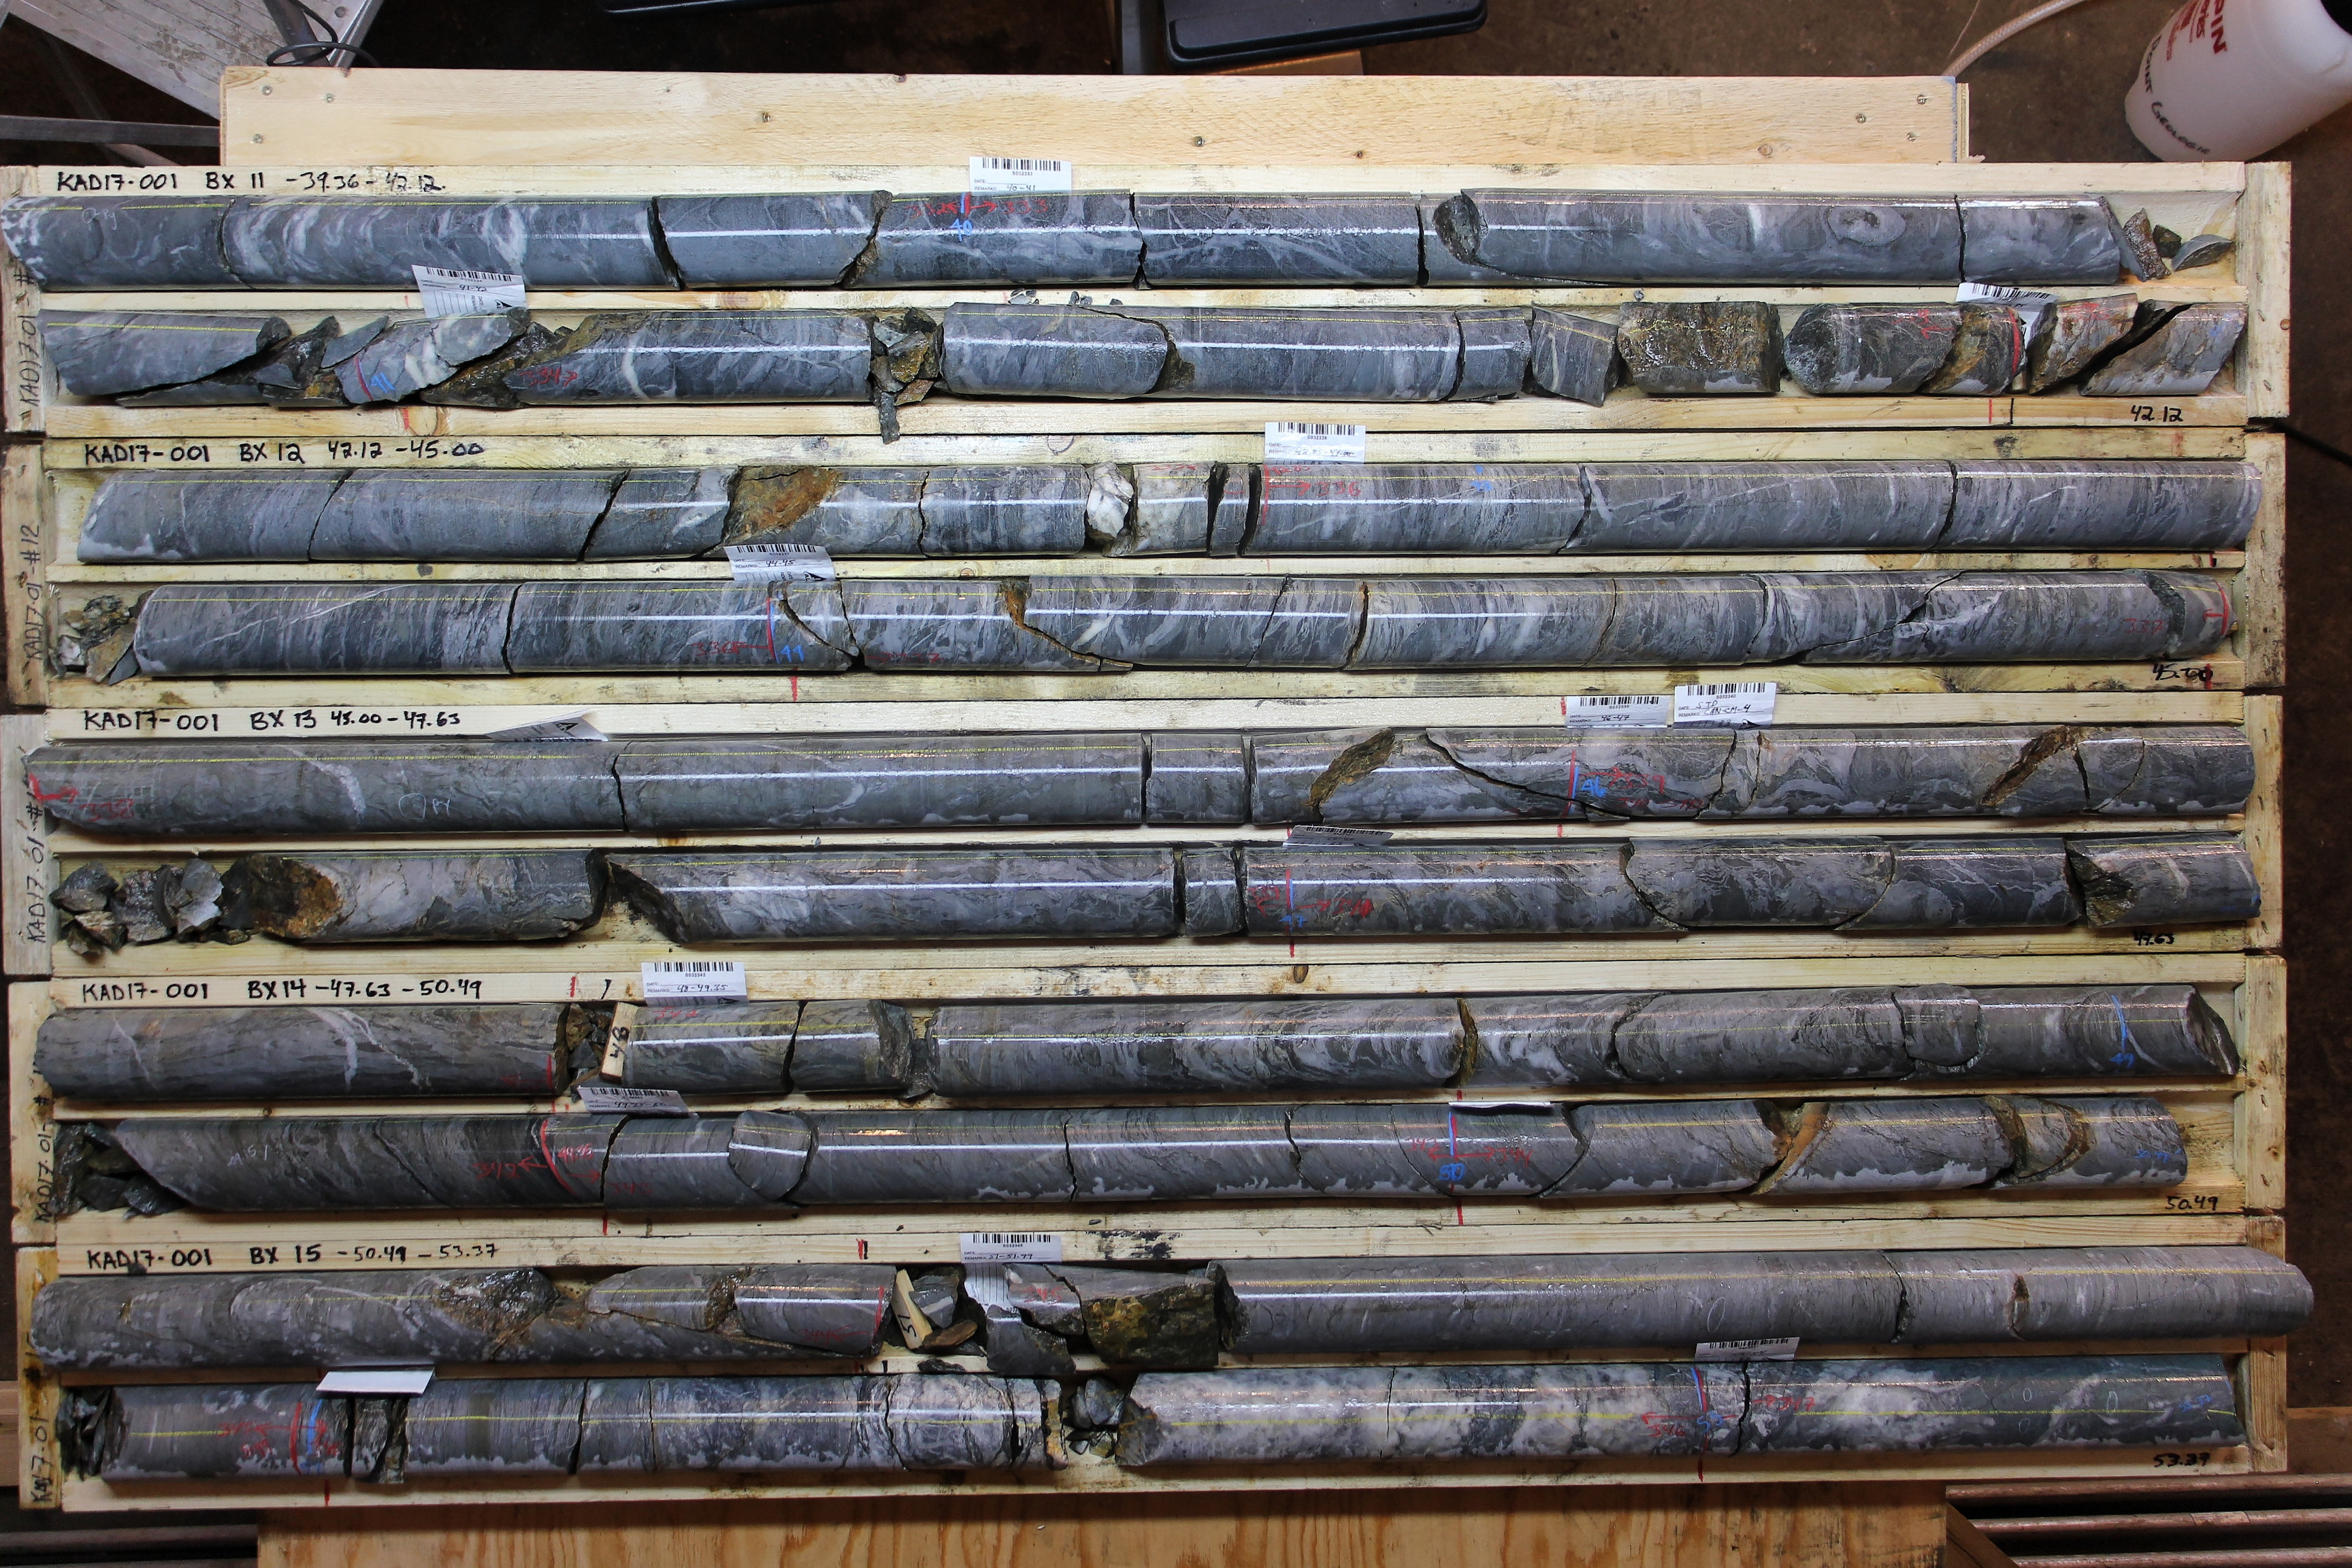rock-KAD17_001-39.36-40: (37, 198, 960, 282)
rock-KAD17_001-40-40x: (963, 197, 2168, 282)
rock-KAD17_001-40x-41: (47, 314, 372, 401)
rock-KAD17_001-41-42: (376, 313, 2010, 397)
rock-KAD17_001-42-42x: (2014, 312, 2238, 395)
rock-KAD17_001-42x-43: (77, 473, 1262, 557)
rock-KAD17_001-43-43x: (1266, 463, 2249, 546)
rock-KAD17_001-43x-44: (129, 587, 774, 673)
rock-KAD17_001-44-45: (779, 577, 2226, 672)
rock-KAD17_001-45-46: (54, 732, 1565, 840)
rock-KAD17_001-46-46x: (1574, 731, 2246, 823)
rock-KAD17_001-46x-47: (56, 841, 1286, 956)
rock-KAD17_001-47-47x: (1286, 835, 2246, 938)
rock-KAD17_001-47x-48: (54, 1007, 555, 1103)
rock-KAD17_001-48-49: (627, 991, 2125, 1097)
rock-KAD17_001-49-49x: (2128, 990, 2236, 1083)
rock-KAD17_001-49x-50: (56, 1105, 1457, 1218)
rock-KAD17_001-50-50x: (1457, 1100, 2185, 1194)
rock-KAD17_001-50x-51: (54, 1264, 876, 1369)
rock-KAD17_001-51-51x: (1044, 1251, 2249, 1342)
rock-KAD17_001-51x-52: (64, 1386, 306, 1484)
rock-KAD17_001-52-53: (330, 1372, 1706, 1470)
rock-KAD17_001-53-53.37: (1708, 1364, 2234, 1449)
